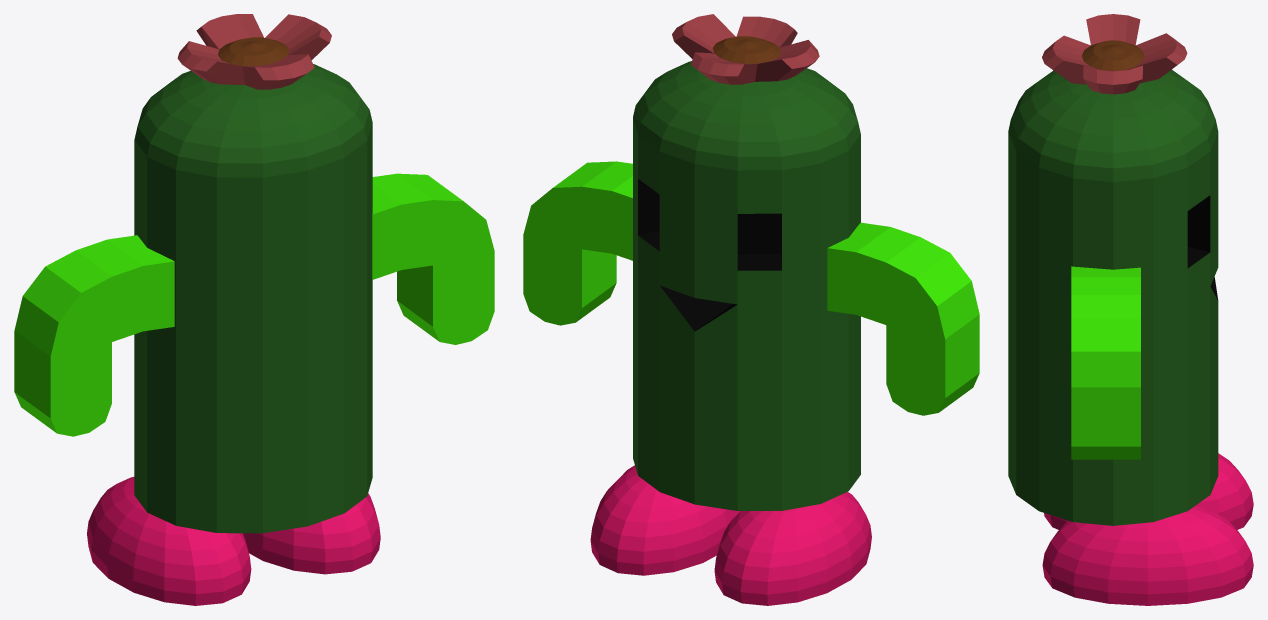
Rendered from SlowEnemy.fbx.
3 renders of one model, left to right at view 1: azimuth 30°, elevation 25°; view 2: azimuth 150°, elevation 25°; view 3: azimuth 270°, elevation 25°, orthographic. The views are drawn at different scales.
Parts seen in each view (by area): view 1: Enemy, LeftArm, RightArm, LeftLeg, RightLeg; view 2: Enemy, LeftArm, RightArm, LeftLeg, RightLeg; view 3: Enemy, RightLeg, RightArm, LeftLeg.
Part boxes in pixels (bbox=[...]): Enemy: bbox=[134, 14, 372, 533]; LeftArm: bbox=[14, 235, 174, 436]; RightArm: bbox=[372, 173, 494, 344]; LeftLeg: bbox=[87, 477, 251, 605]; RightLeg: bbox=[243, 493, 380, 574]; Enemy: bbox=[633, 14, 860, 510]; LeftArm: bbox=[827, 222, 979, 415]; RightArm: bbox=[523, 161, 632, 325]; LeftLeg: bbox=[714, 492, 871, 605]; RightLeg: bbox=[590, 465, 739, 575]; Enemy: bbox=[1008, 14, 1218, 525]; RightLeg: bbox=[1042, 505, 1253, 605]; RightArm: bbox=[1071, 266, 1140, 459]; LeftLeg: bbox=[1044, 453, 1253, 529].
Size of the model in its own units: 180 by 203 by 89.38.
